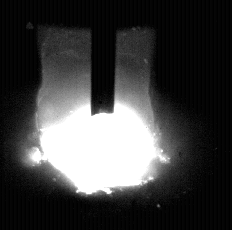arame: (91, 0, 116, 116)
poca: (30, 0, 165, 230)
